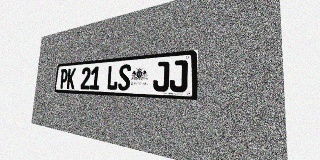1: (89, 66, 101, 90)
2: (80, 67, 91, 89)
J: (169, 60, 188, 92), (153, 61, 169, 92)
K: (66, 68, 76, 89)
L: (106, 65, 119, 90)
P: (59, 69, 68, 89)
S: (118, 64, 131, 91)
